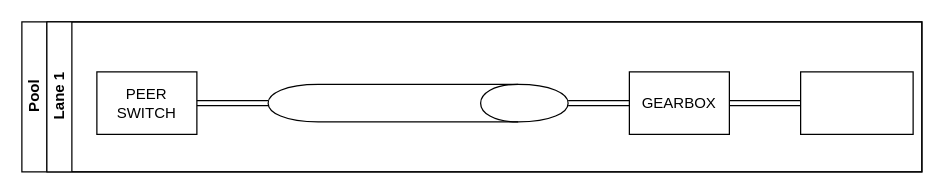
Some shapes in this 944 by 194 pixel diagram are drawn without their labels. The centre of each missing label's shape, as x and y in pixels:
"CABLE" goes at [417,102].
"SWITCH CHIP" goes at [856,102].
